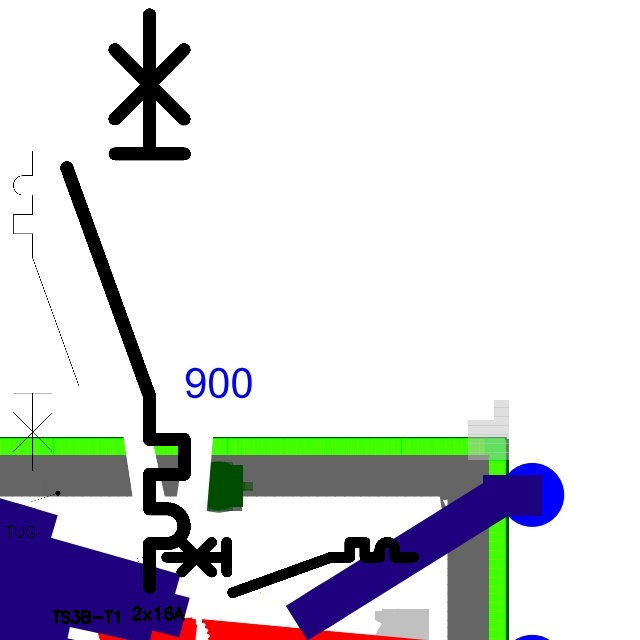interruptor_termomagnetico: (52, 0, 199, 602), (5, 143, 87, 478), (160, 536, 419, 599)
